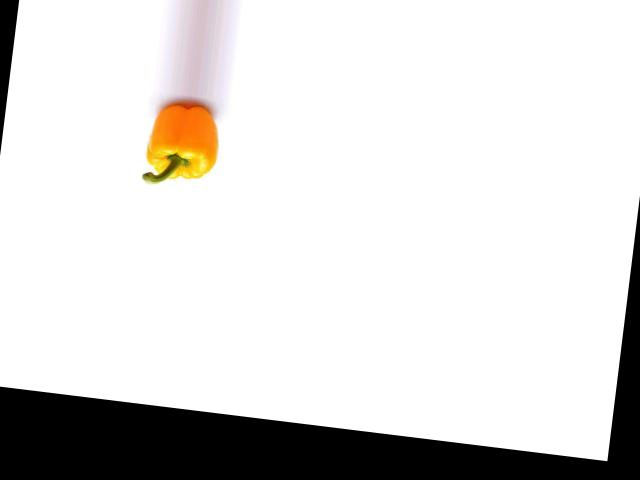bell_pepper: (139, 98, 229, 188)
